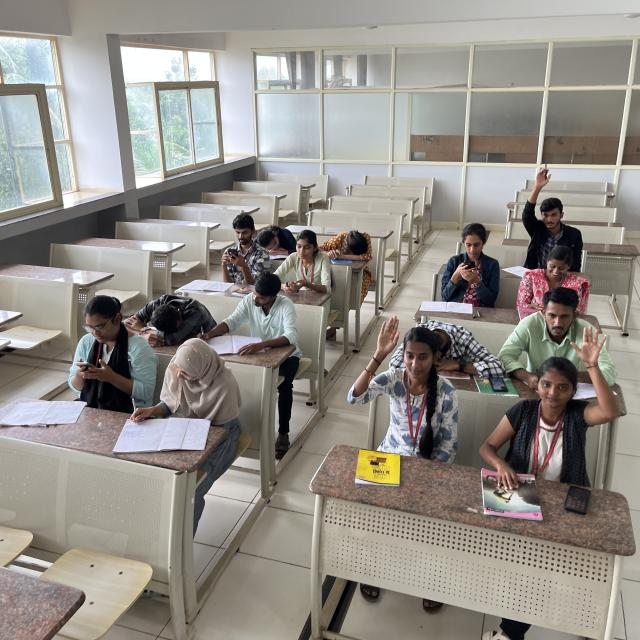Hand Rising: (507, 327, 616, 477), (350, 316, 455, 451), (514, 161, 591, 266)
Sleeping: (400, 313, 492, 378), (126, 291, 203, 342), (325, 224, 377, 264), (260, 224, 300, 258)
Using Phone: (71, 293, 148, 402), (514, 245, 592, 316), (440, 220, 500, 300), (281, 230, 335, 296), (220, 210, 263, 286)
Writing: (125, 338, 241, 450), (192, 272, 301, 362), (510, 285, 580, 403)
